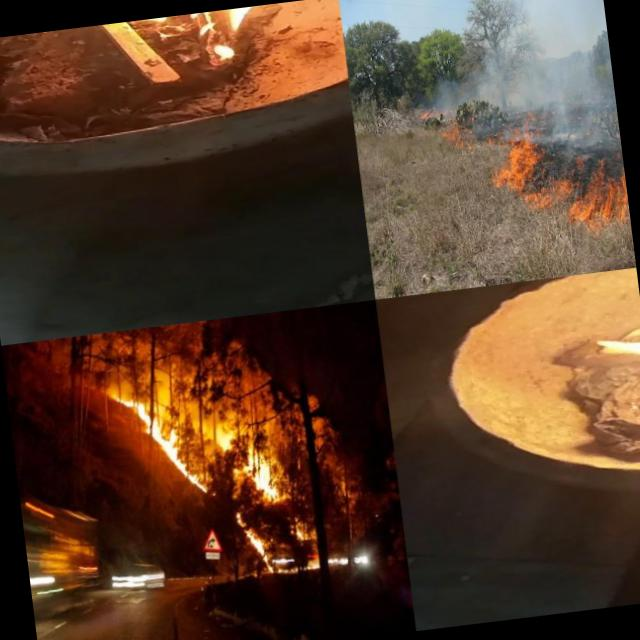fire: (0, 0, 341, 66), (132, 380, 215, 498), (216, 401, 292, 503), (564, 150, 631, 232), (487, 127, 543, 193), (234, 510, 274, 579), (523, 176, 570, 211), (442, 115, 479, 152), (419, 109, 434, 128)
smoke: (421, 34, 550, 106), (535, 0, 613, 90), (532, 84, 622, 162), (474, 94, 536, 135), (498, 0, 543, 39)
